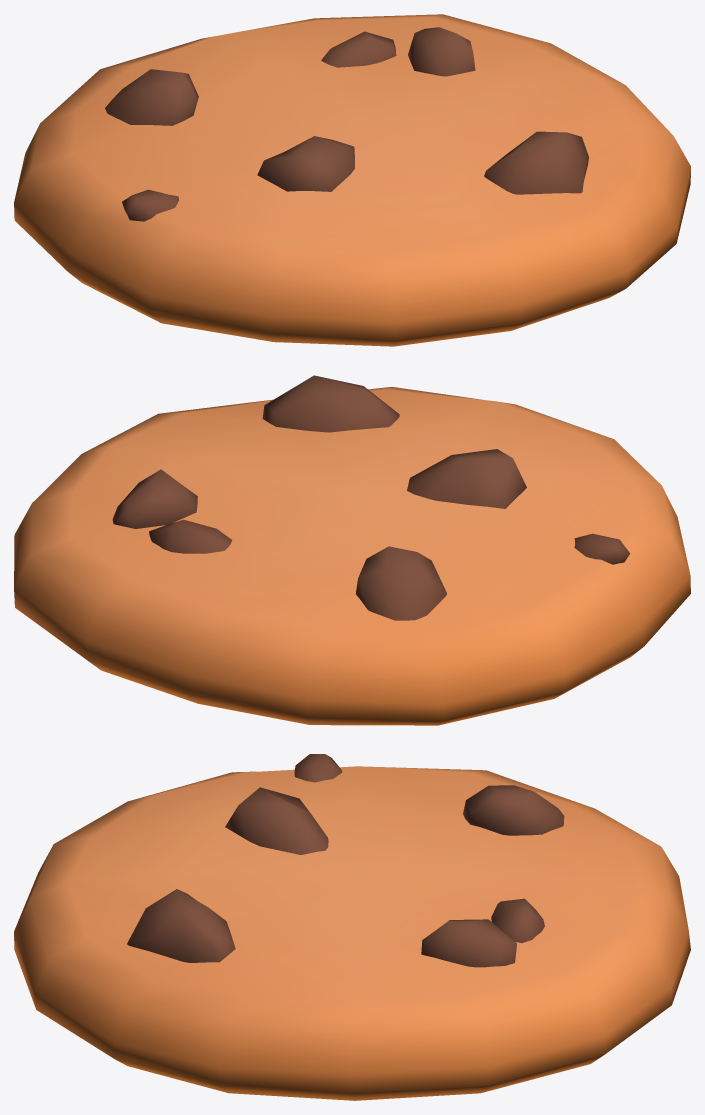
The model's file is Cookie_15.glb.
The picture shows the model from 3 angles, top to bottom: view 1: azimuth 30°, elevation 25°; view 2: azimuth 150°, elevation 25°; view 3: azimuth 270°, elevation 25°; orthographic projection. The views are drawn at different scales.
Parts seen in each view (by area): view 1: Cookie_15; view 2: Cookie_15; view 3: Cookie_15.
Part boxes in pixels (x1=…): Cookie_15: x1=14, y1=14, x2=690, y2=346; Cookie_15: x1=14, y1=375, x2=690, y2=725; Cookie_15: x1=14, y1=754, x2=690, y2=1100.
Size of the model in its own units: 3.56 by 0.7472 by 3.55.
Materials: 1 (1 with a texture image).
